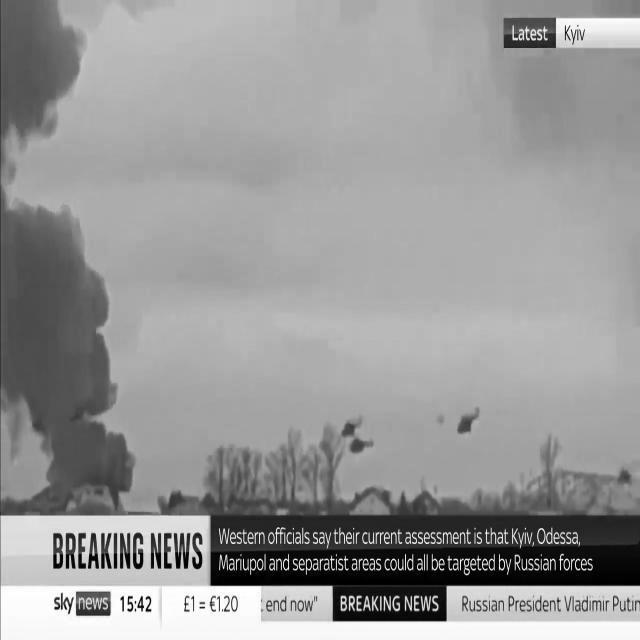helikopter: (336, 404, 380, 461), (449, 398, 490, 444)
